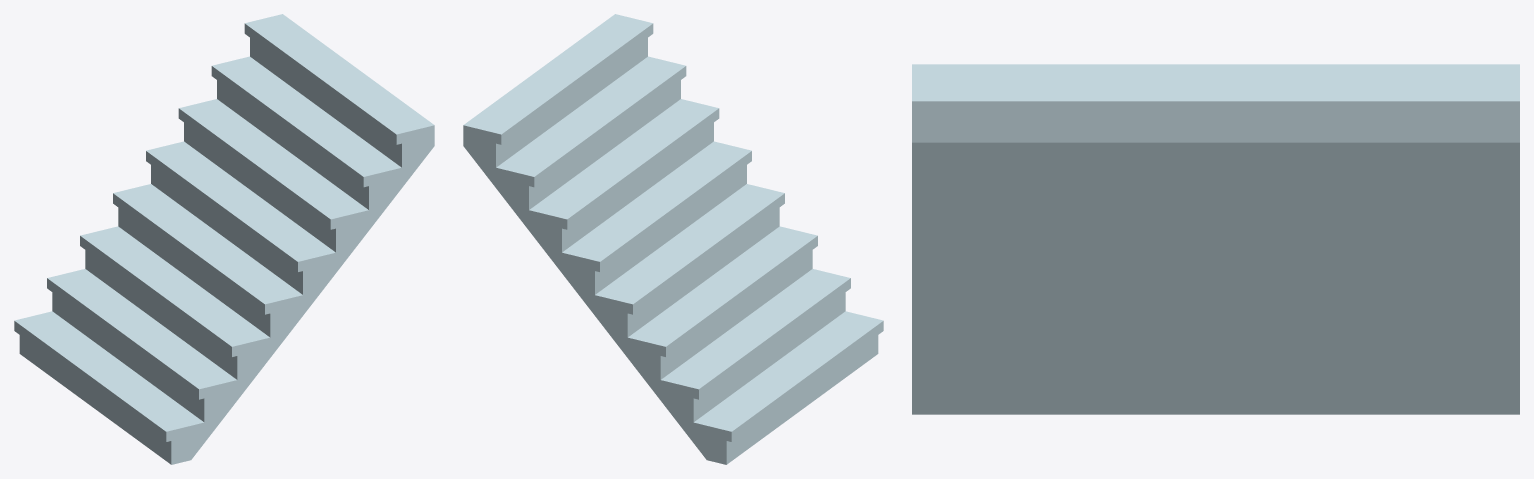
The picture shows the model from 3 angles, left to right: view 1: azimuth 30°, elevation 25°; view 2: azimuth 150°, elevation 25°; view 3: azimuth 270°, elevation 25°; orthographic projection. The views are drawn at different scales.
Visible parts, largest first — view 1: stairsWideStone; view 2: stairsWideStone; view 3: stairsWideStone.
Boxes of the visible parts, x1,y1,x2,y2 form: stairsWideStone: [14, 14, 434, 464]; stairsWideStone: [463, 14, 883, 464]; stairsWideStone: [912, 64, 1519, 414].
Size of the model in its own units: 1.02 by 1 by 1.
